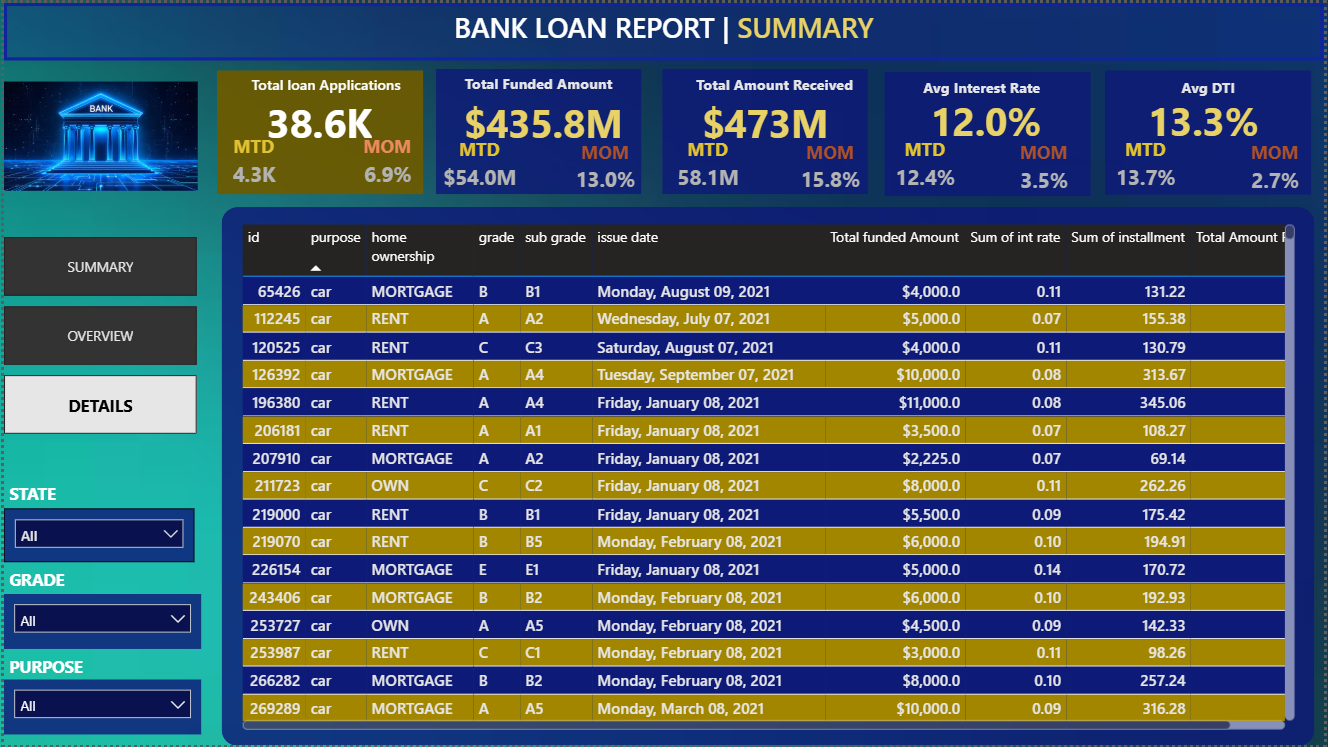

The dashboard page shown, as its layout file describes it:
{"tool":"powerbi","page":{"name":"DETAILS","canvas":[1280,720],"ordinal":2},"visuals":[{"type":"shape","box":[0,0,1280.3,55.7],"z":0,"group":"g1"},{"type":"shape","box":[419.4,64.8,199.2,121.4],"z":0},{"type":"shape","box":[0,55.7,191.8,665.6],"z":1000,"group":"g1"},{"type":"cardVisual","fields":{"Data":["Bank_loan_data.Total funded Amount"]},"box":[408,79.3,231.5,69.6],"z":1000},{"type":"shape","box":[206.6,65.6,200,120],"z":2000,"group":"g1"},{"type":"card","title":"MTD","fields":{"Values":["Bank_loan_data.MTD Funded Amount"]},"box":[419.4,129.5,84.2,58.3],"z":2000},{"type":"textbox","box":[0,0,1280.3,55.7],"z":3000,"group":"g1"},{"type":"card","title":"MOM","fields":{"Values":["Bank_loan_data.MOM Total Funded Amount"]},"box":[546.9,131.9,71.6,57],"z":3000},{"type":"group","id":"g1","title":"Group 1","box":[0,0,1280.3,721.3],"z":4000},{"type":"cardVisual","fields":{"Data":["Bank_loan_data.Total loan Applications"]},"box":[225.1,79.3,161.9,69.6],"z":4000,"group":"g1"},{"type":"textbox","box":[207.3,64.8,212.1,29.1],"z":5000,"group":"g1"},{"type":"shape","box":[639.6,64.8,199.2,121.4],"z":5000},{"type":"textbox","box":[419.4,63.1,199.2,30.8],"z":6000},{"type":"card","title":"MTD","fields":{"Values":["Bank_loan_data.MTD Loan Applications"]},"box":[207.3,126.3,71.2,58.3],"z":6000,"group":"g1"},{"type":"shape","box":[854.6,66.7,200.2,120.5],"z":7000},{"type":"card","title":"MOM","fields":{"Values":["Bank_loan_data.MOM loan Applications"]},"box":[336.8,126.3,71.2,58.3],"z":7000,"group":"g1"},{"type":"cardVisual","fields":{"Data":["Bank_loan_data.Total Amount Received"]},"box":[623.4,79.3,231.5,69.6],"z":8000},{"type":"card","title":"MOM","fields":{"Values":["Bank_loan_data.MOM Total Amount Received"]},"box":[765.1,131.9,71.6,57],"z":9000},{"type":"card","title":"MTD","fields":{"Values":["Bank_loan_data.MTD Total Amount Received"]},"box":[639.7,130.2,84.6,58.6],"z":10000},{"type":"textbox","box":[639.7,63.5,214.9,50.5],"z":11000},{"type":"shape","box":[1067.8,65.1,200.2,120.5],"z":12000},{"type":"cardVisual","fields":{"Data":["Bank_loan_data.Avg Interest Rate"]},"box":[836.7,78.1,231.2,70],"z":13000},{"type":"card","title":"MTD","fields":{"Values":["Bank_loan_data.MTD Avg DTI"]},"box":[1067.8,130.2,78.1,58.6],"z":14000},{"type":"card","title":"MOM","fields":{"Values":["Bank_loan_data.MOM Avg Int Rate"]},"box":[973.4,131.9,70,58.6],"z":15000},{"type":"textbox","box":[854.6,66.7,188.8,47.2],"z":16000},{"type":"textbox","box":[1067.8,66.7,200.2,47.2],"z":17000},{"type":"cardVisual","fields":{"Data":["Bank_loan_data.Avg DTI"]},"box":[1048.3,78.1,231.2,70],"z":18000},{"type":"card","title":"MTD","fields":{"Values":["Bank_loan_data.MTD Avg Int Rate"]},"box":[854.6,130.2,78.1,58.6],"z":19000},{"type":"card","title":"MOM","fields":{"Values":["Bank_loan_data.MOM Avg DTI"]},"box":[1198.1,131.9,70,58.6],"z":20000},{"type":"textbox","box":[0,459.9,87.4,42.1],"z":21000},{"type":"slicer","fields":{"Values":["Bank_loan_data.grade"]},"box":[0,573.2,191.1,53.4],"z":22000},{"type":"textbox","box":[0,542.4,142.5,58.3],"z":23000},{"type":"slicer","fields":{"Values":["Bank_loan_data.purpose"]},"box":[0,655.8,191.1,53.4],"z":24000},{"type":"shape","box":[210.5,197.5,1060.6,523],"z":25000},{"type":"textbox","box":[0,626.6,127.9,40.5],"z":26000},{"type":"tableEx","fields":{"Values":["Bank_loan_data.id","Bank_loan_data.purpose","Bank_loan_data.home_ownership","Bank_loan_data.grade","Bank_loan_data.sub_grade","Bank_loan_data.issue_date","Bank_loan_data.Total funded Amount","Sum(Bank_loan_data.int_rate)","Sum(Bank_loan_data.installment)","Bank_loan_data.Total Amount Received"]},"box":[225.1,208.9,1031.4,500.3],"z":27000},{"type":"pageNavigator","box":[0,226.7,187.8,191.1],"z":28000},{"type":"image","box":[0,74.5,187.8,110.1],"z":29000},{"type":"slicer","fields":{"Values":["Bank_loan_data.address_state"]},"box":[0,490.6,184.6,51.8],"z":33001,"group":"g1"}]}

Visuals, with their boxes in screenshot pixels (x1, y1, x2, y2), scaled from the page's 1280x720 canvas onto the 1328x747 screenshot:
shape: bbox(0, 0, 1327, 58)
shape: bbox(435, 67, 642, 193)
shape: bbox(0, 58, 199, 746)
cardVisual - Bank_loan_data.Total funded Amount: bbox(423, 82, 663, 154)
shape: bbox(214, 68, 422, 193)
"MTD" card: bbox(435, 134, 522, 195)
textbox: bbox(0, 0, 1327, 58)
"MOM" card: bbox(567, 137, 642, 196)
"Group 1" group: bbox(0, 0, 1327, 746)
cardVisual - Bank_loan_data.Total loan Applications: bbox(234, 82, 402, 154)
textbox: bbox(215, 67, 435, 97)
shape: bbox(664, 67, 870, 193)
textbox: bbox(435, 65, 642, 97)
"MTD" card: bbox(215, 131, 289, 192)
shape: bbox(887, 69, 1094, 194)
"MOM" card: bbox(349, 131, 423, 192)
cardVisual - Bank_loan_data.Total Amount Received: bbox(647, 82, 887, 154)
"MOM" card: bbox(794, 137, 868, 196)
"MTD" card: bbox(664, 135, 751, 196)
textbox: bbox(664, 66, 887, 118)
shape: bbox(1108, 68, 1316, 193)
cardVisual - Bank_loan_data.Avg Interest Rate: bbox(868, 81, 1108, 154)
"MTD" card: bbox(1108, 135, 1189, 196)
"MOM" card: bbox(1010, 137, 1083, 198)
textbox: bbox(887, 69, 1083, 118)
textbox: bbox(1108, 69, 1316, 118)
cardVisual - Bank_loan_data.Avg DTI: bbox(1088, 81, 1327, 154)
"MTD" card: bbox(887, 135, 968, 196)
"MOM" card: bbox(1243, 137, 1316, 198)
textbox: bbox(0, 477, 91, 521)
slicer - Bank_loan_data.grade: bbox(0, 595, 198, 650)
textbox: bbox(0, 563, 148, 623)
slicer - Bank_loan_data.purpose: bbox(0, 680, 198, 736)
shape: bbox(218, 205, 1319, 746)
textbox: bbox(0, 650, 133, 692)
tableEx - Bank_loan_data.id x Bank_loan_data.purpose: bbox(234, 217, 1304, 736)
pageNavigator: bbox(0, 235, 195, 433)
image: bbox(0, 77, 195, 192)
slicer - Bank_loan_data.address_state: bbox(0, 509, 192, 563)
